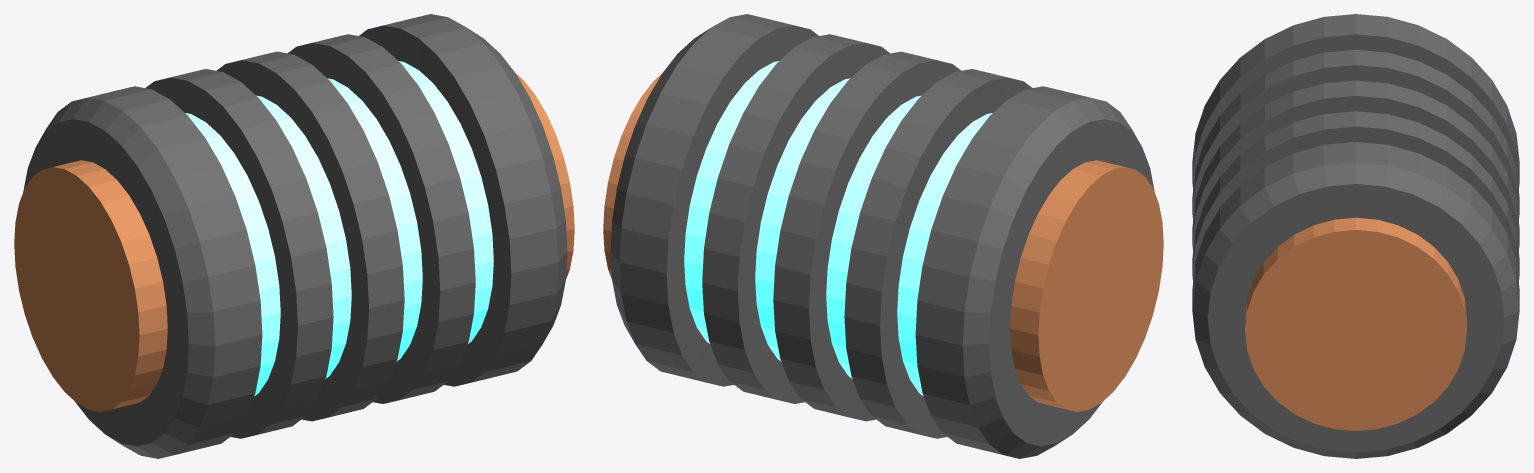
Rendered from battery.fbx.
3 views of the same model, side by side, from view 1: azimuth 30°, elevation 25°; view 2: azimuth 150°, elevation 25°; view 3: azimuth 270°, elevation 25° (orthographic). The views are drawn at different scales.
Visible parts, largest first — view 1: Cylinder; view 2: Cylinder; view 3: Cylinder.
Part boxes in pixels (bbox=[...]): Cylinder: bbox=[14, 14, 574, 458]; Cylinder: bbox=[603, 14, 1163, 458]; Cylinder: bbox=[1192, 14, 1519, 458].
Bounding box in the file's own units: 272 × 200 × 200.
